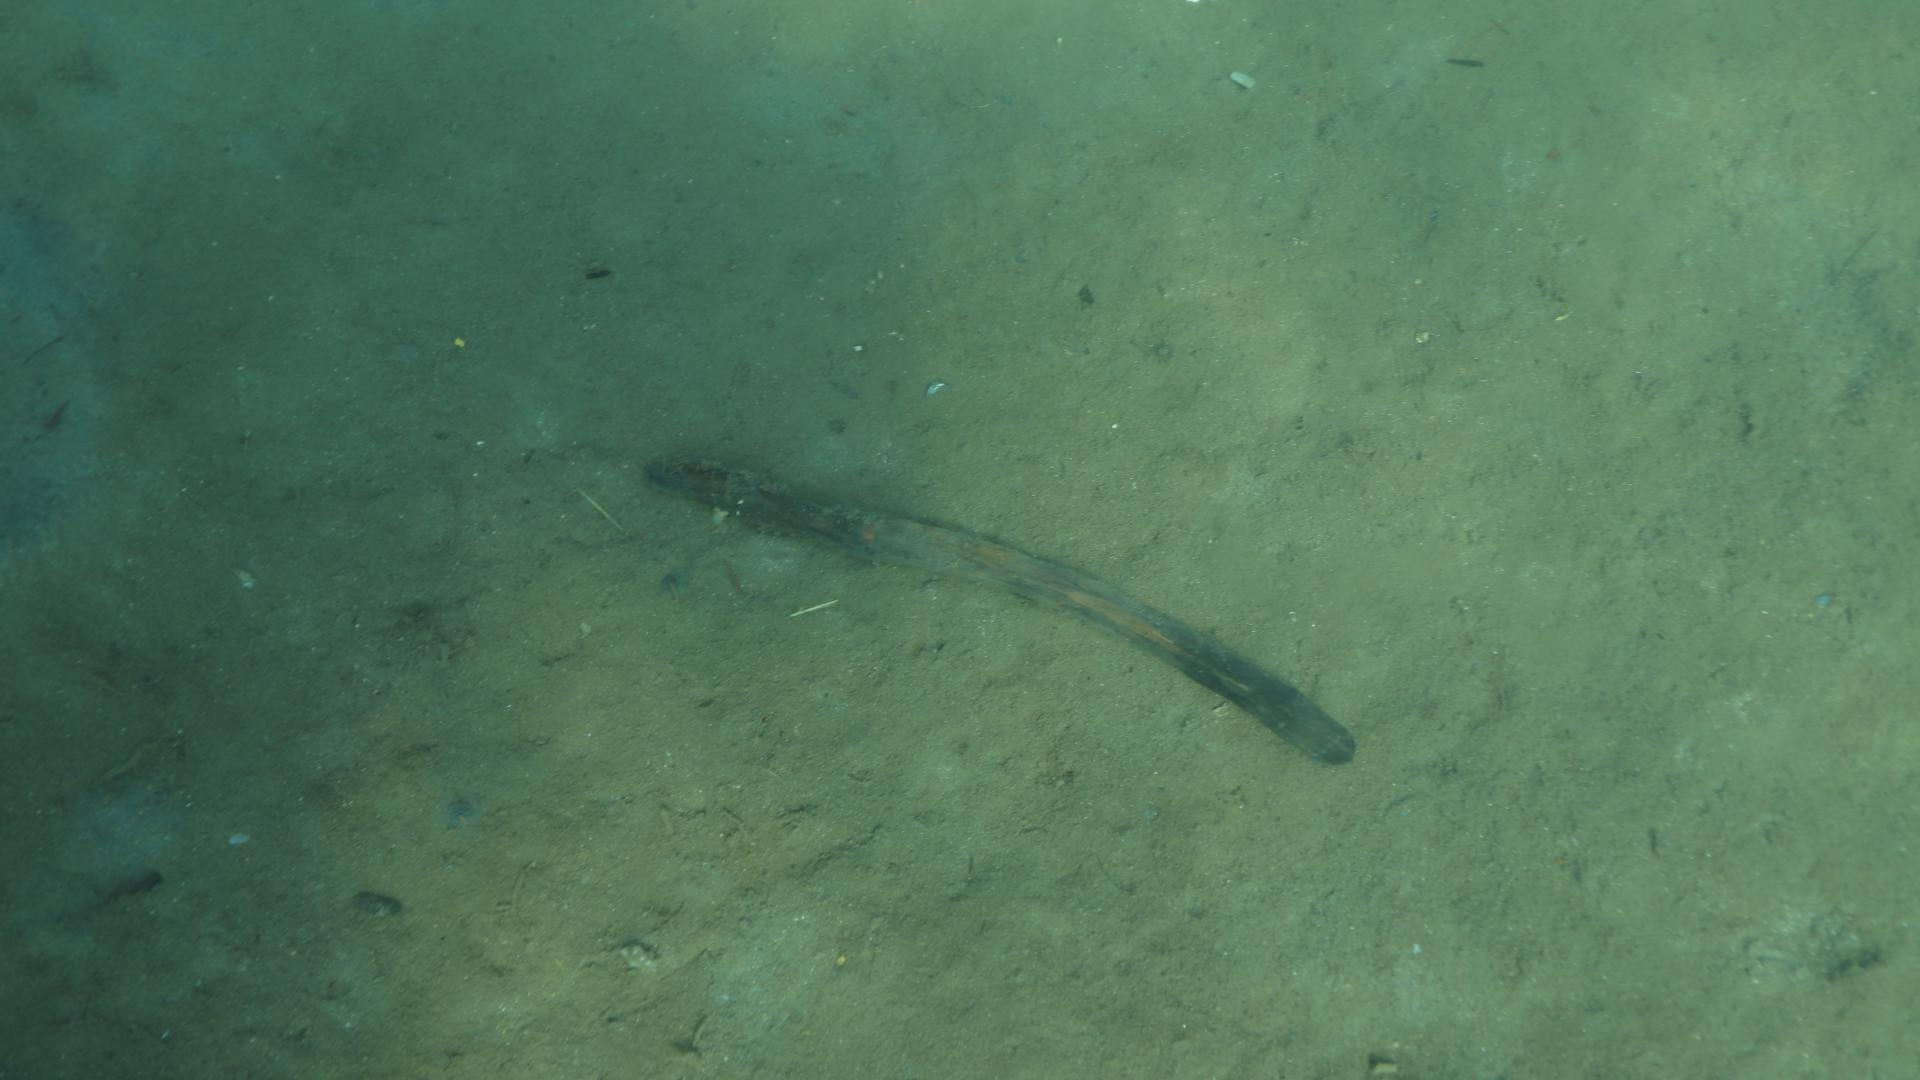wood: (641, 459, 1356, 764)
